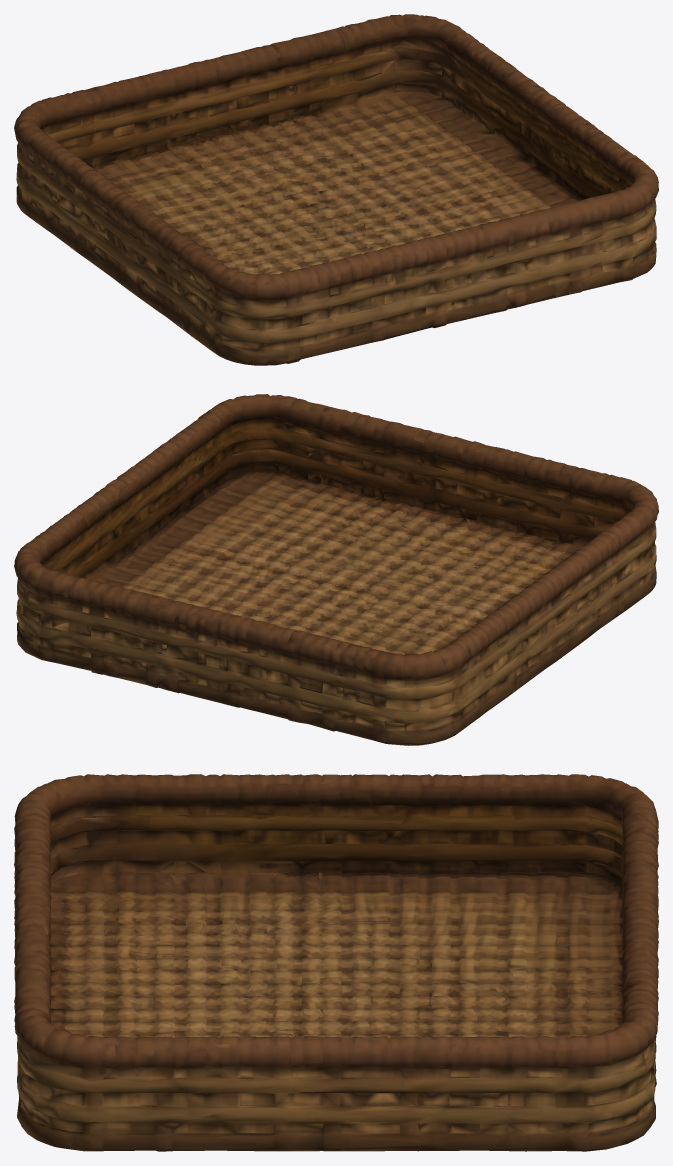
File: basket_farm.glb
3 renders of one model, top to bottom at view 1: azimuth 30°, elevation 25°; view 2: azimuth 150°, elevation 25°; view 3: azimuth 270°, elevation 25°, orthographic. The views are drawn at different scales.
Visible parts, largest first — view 1: basket_farm; view 2: basket_farm; view 3: basket_farm.
Boxes of the visible parts, x1,y1,x2,y2 form: basket_farm: [14, 14, 658, 365]; basket_farm: [14, 394, 658, 745]; basket_farm: [14, 774, 658, 1151].
Size of the model in its own units: 1 by 0.1883 by 0.9888.
Materials: 1 (1 with a texture image).
